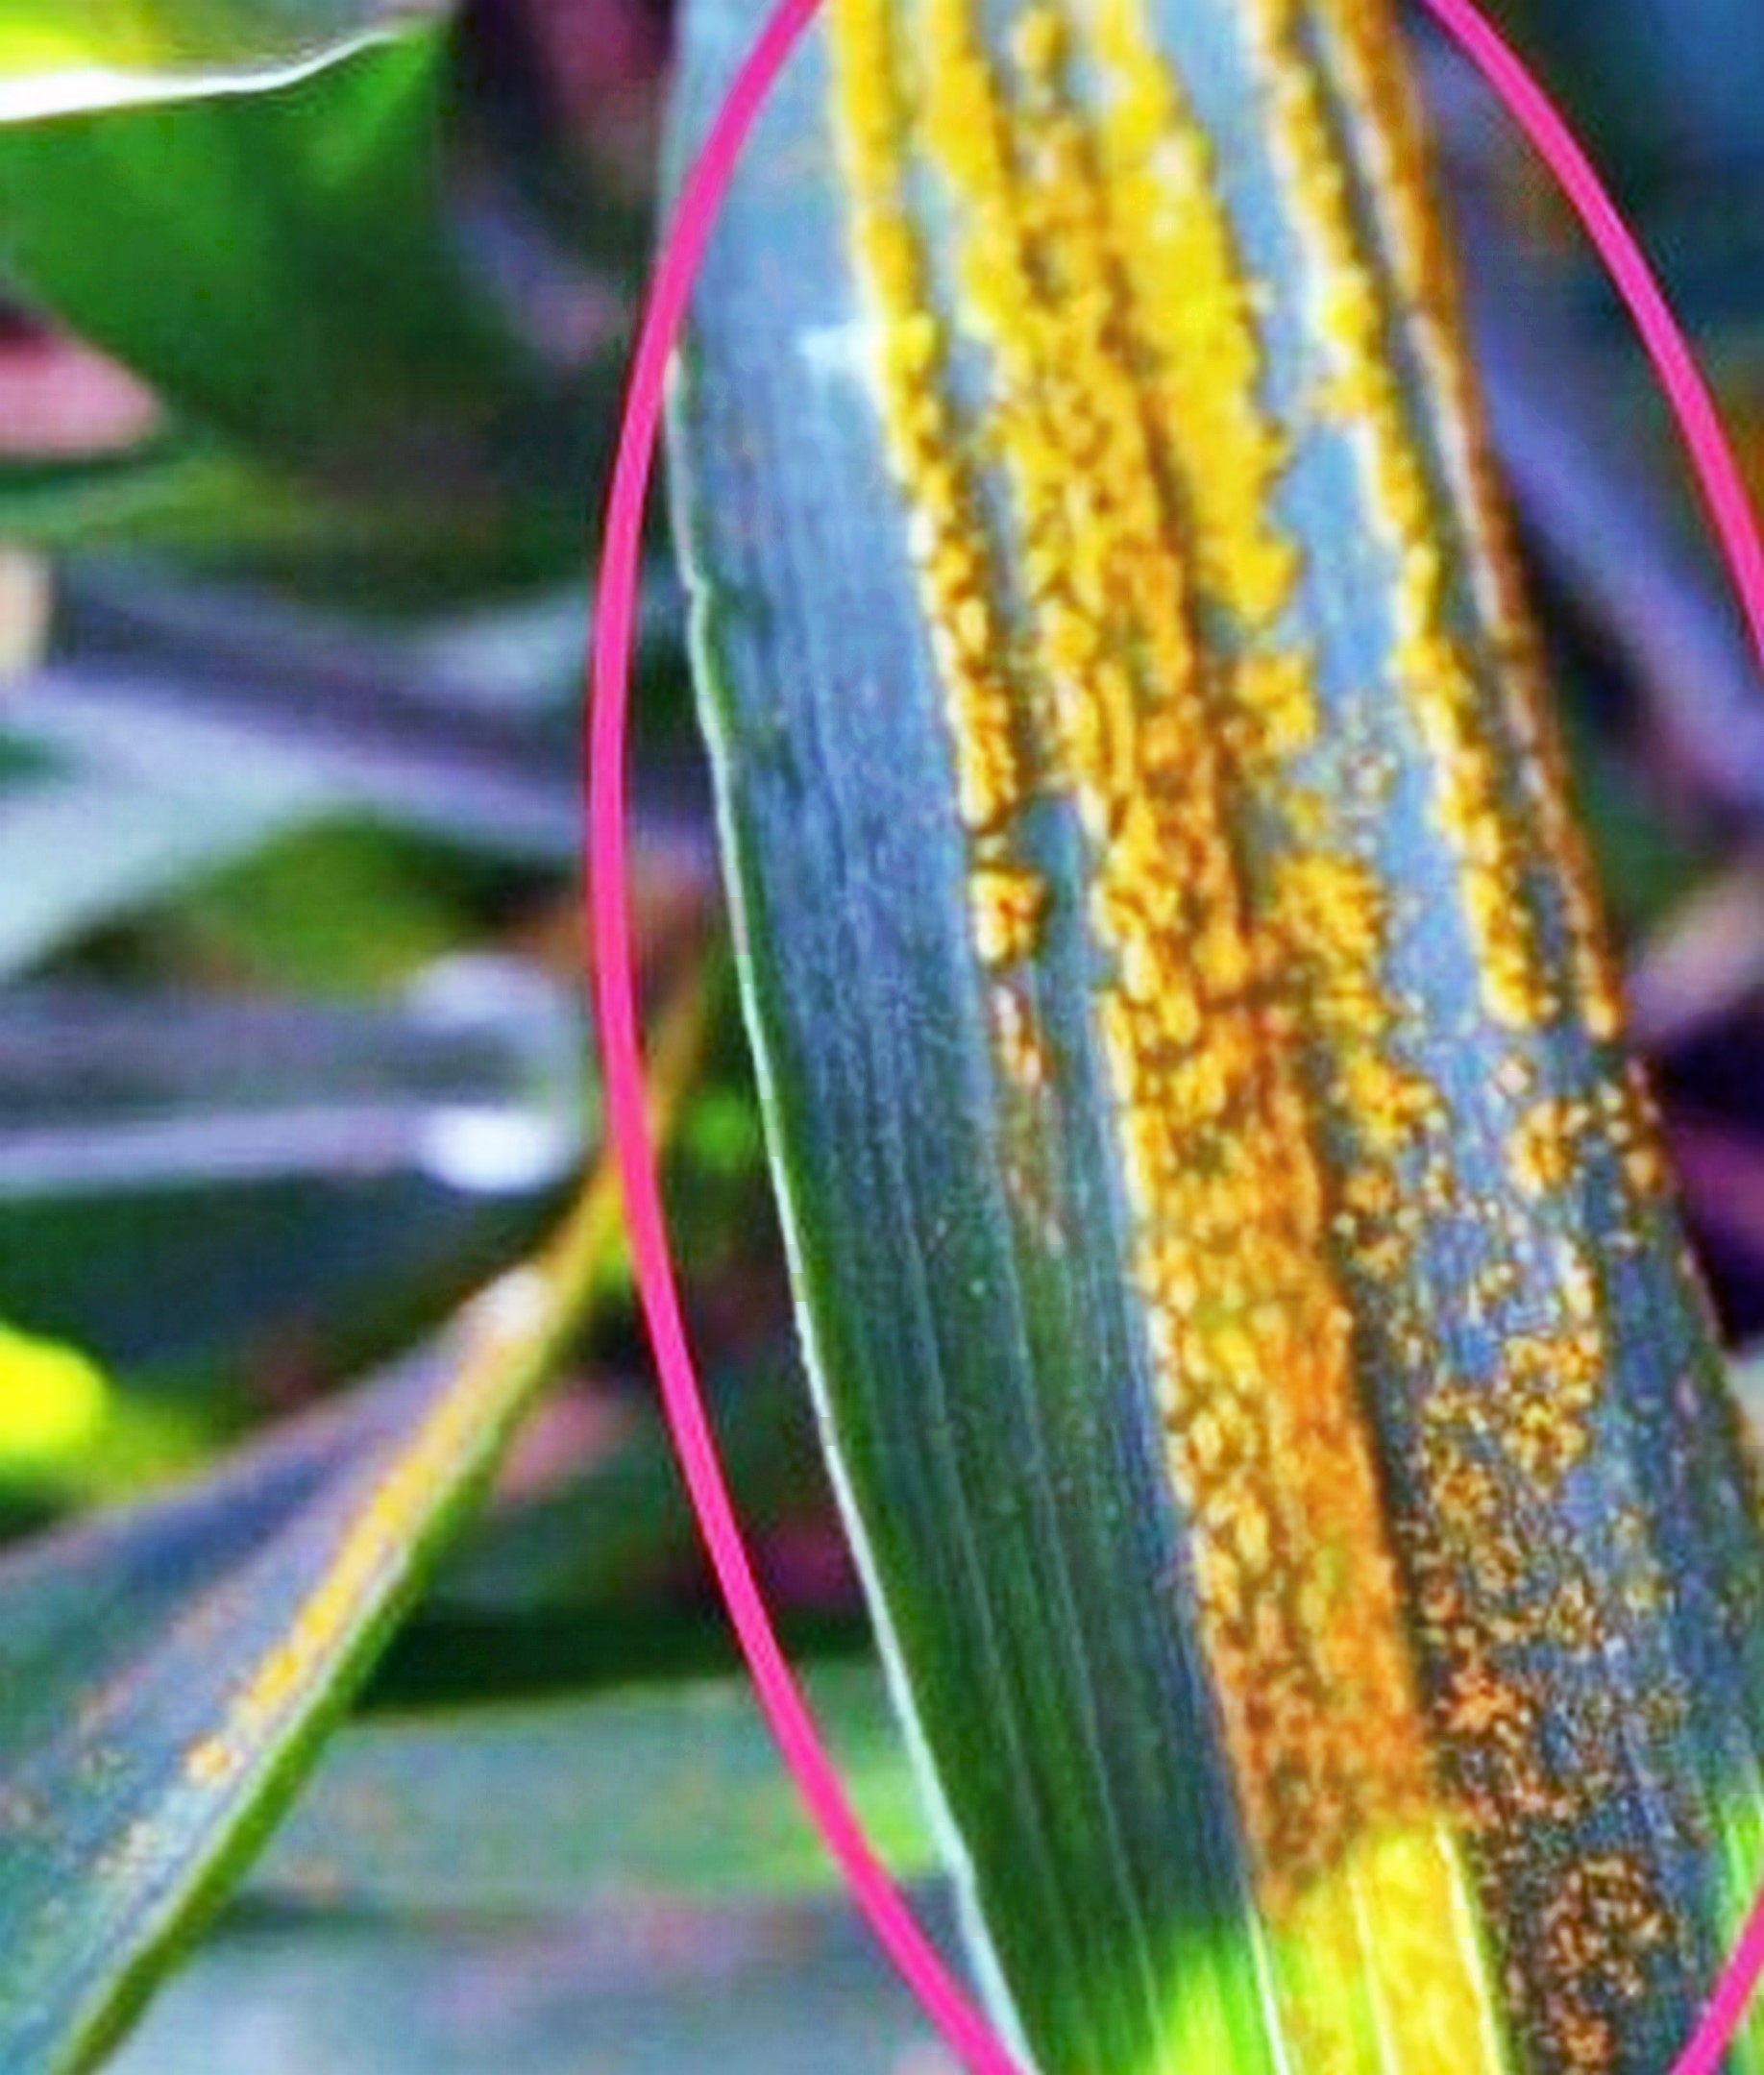Leaf Rust: (731, 58, 1732, 1905)
